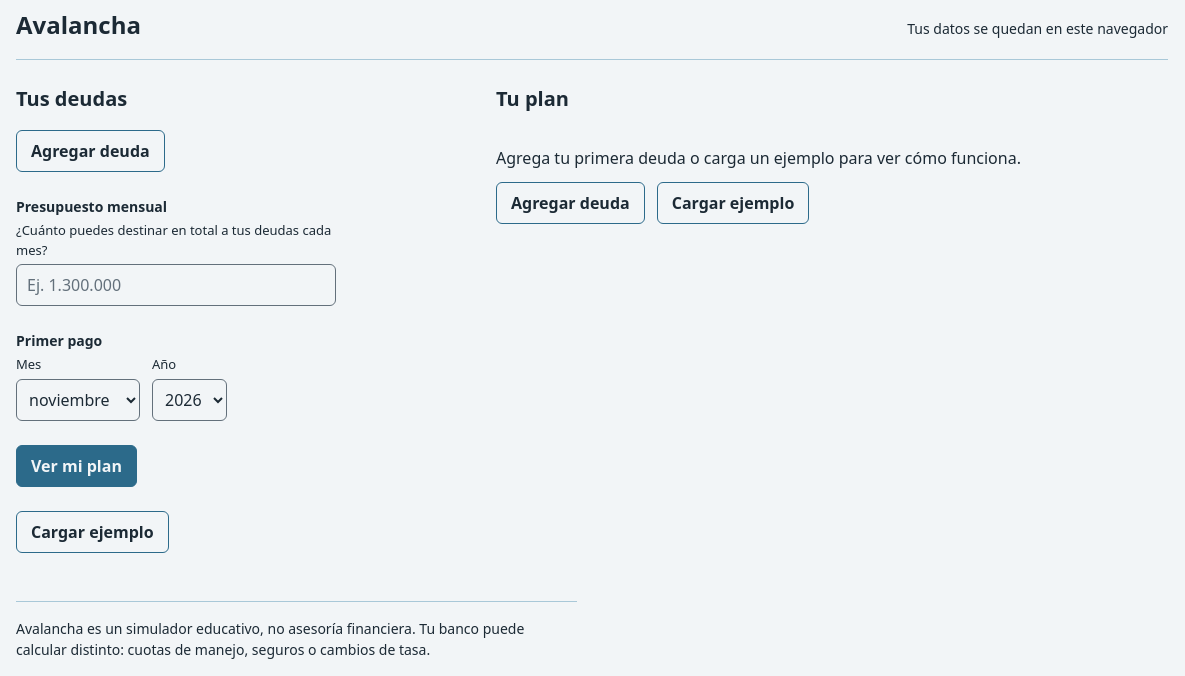
Scenario: App › shows "Borrar mis datos" only when there is data
This screenshot has width=1185, height=676.
Expected: the button "Borrar mis datos" is not shown
In the field labelled "Presupuesto mensual": x=176, y=285 [16,264,336,306], type "900.000"
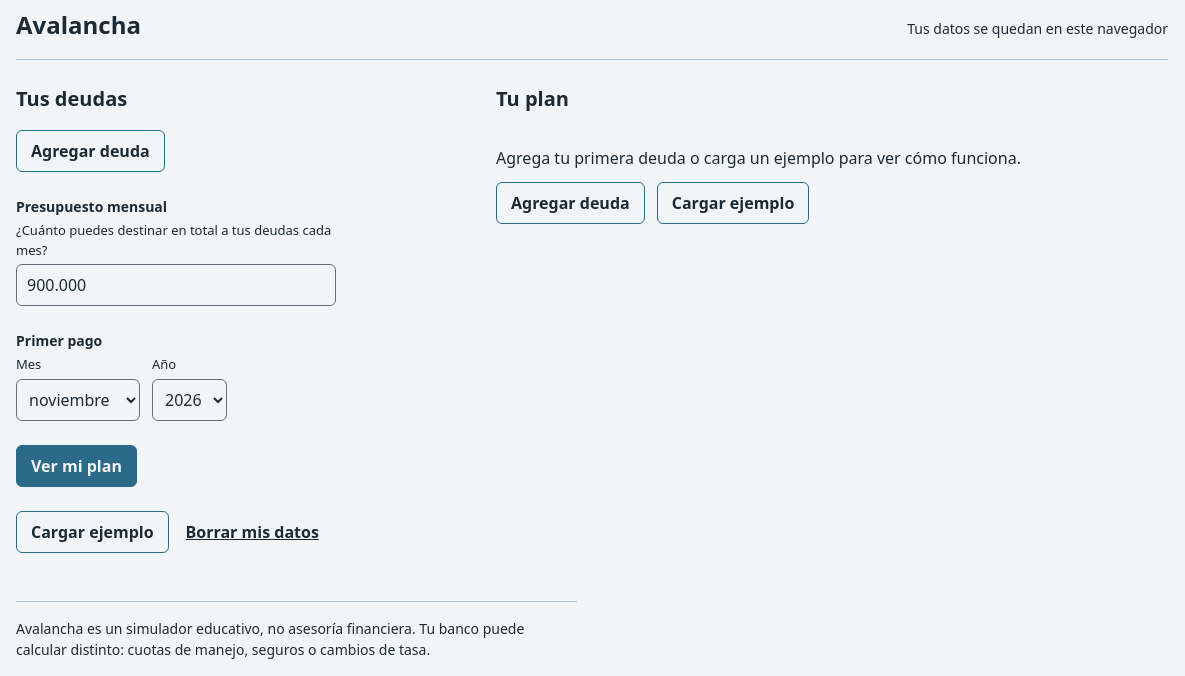
Expected: the button "Borrar mis datos" is shown, [181,510,324,552]
